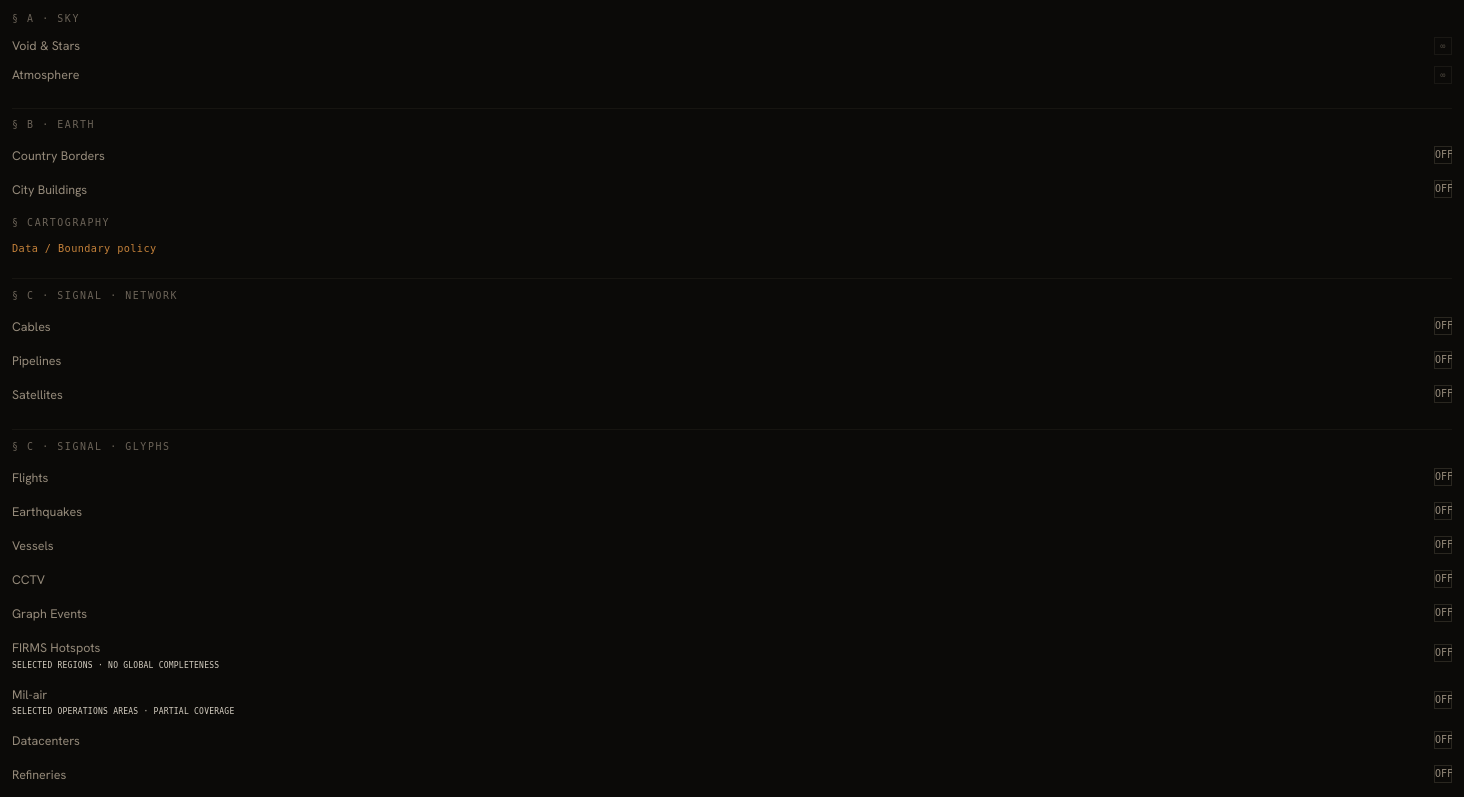
Test: LayersPanel › renders attribution values only as escaped text
What coordinates should you click on to do the following:
click the button "Data / Boundary policy"
I would click on:
 (84, 249)
Its box is x1=12 y1=241 x2=157 y2=256.
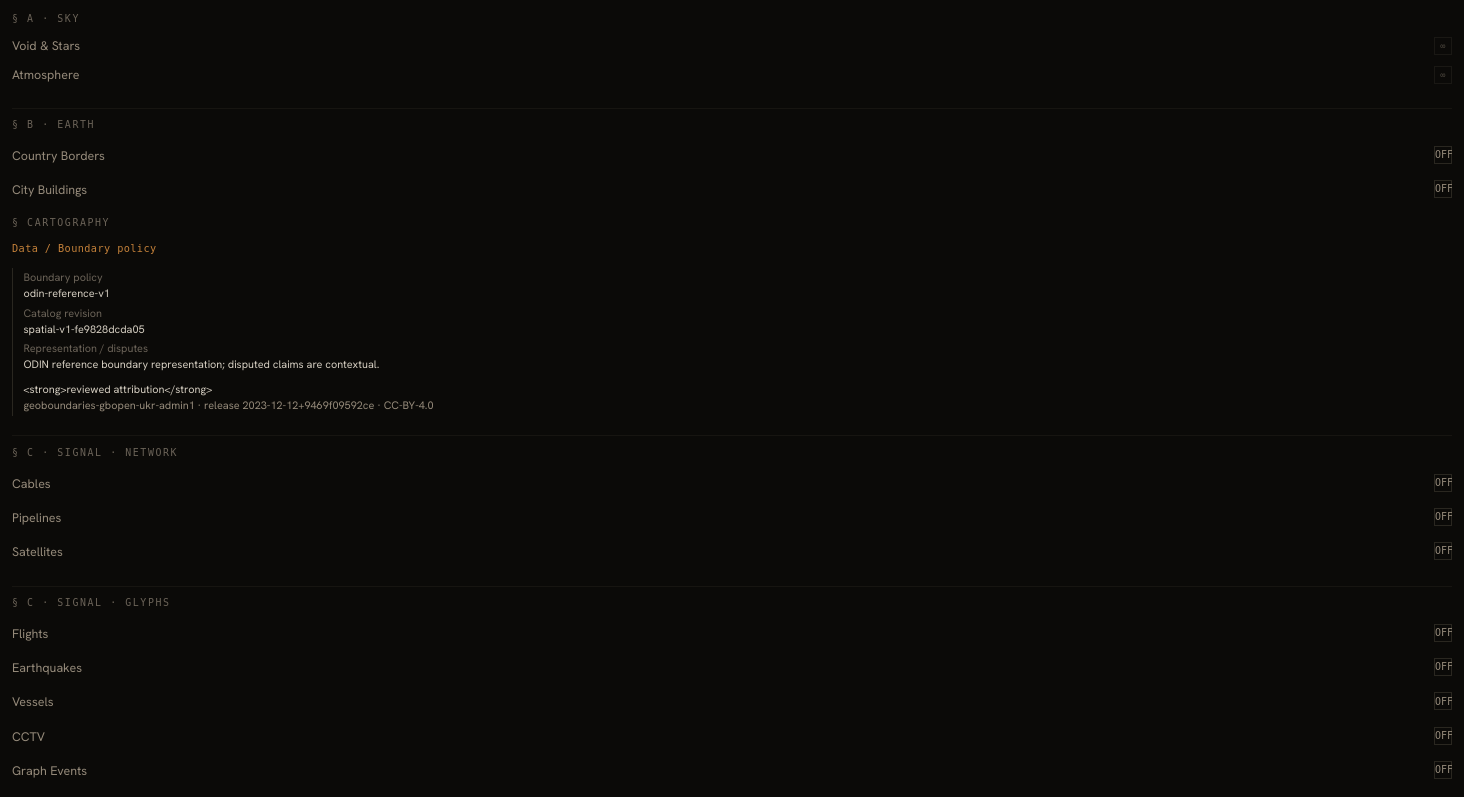
Expected: the text "<strong>reviewed attribution</strong>" is shown, x1=23 y1=382 x2=212 y2=396
